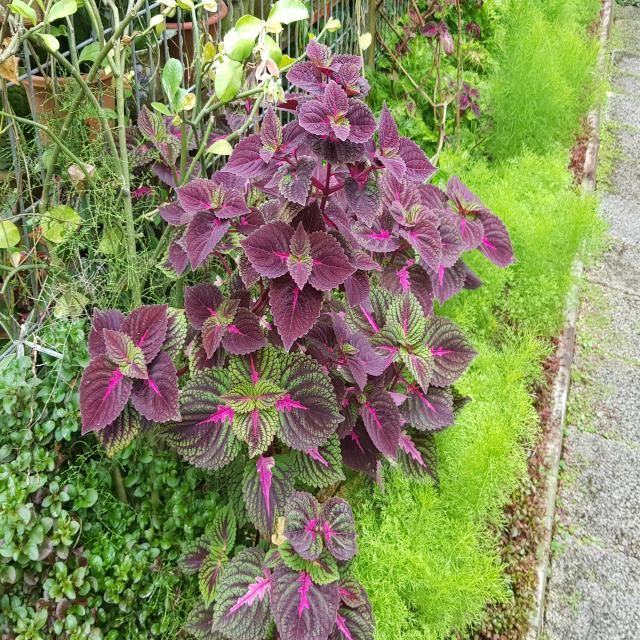Coleus: (161, 58, 370, 462), (214, 475, 360, 634), (321, 287, 442, 468), (72, 300, 190, 441), (326, 129, 429, 269), (384, 190, 508, 303), (445, 76, 492, 120)
Dill: (503, 20, 578, 212), (378, 518, 490, 626), (461, 378, 540, 508), (515, 219, 571, 307)
